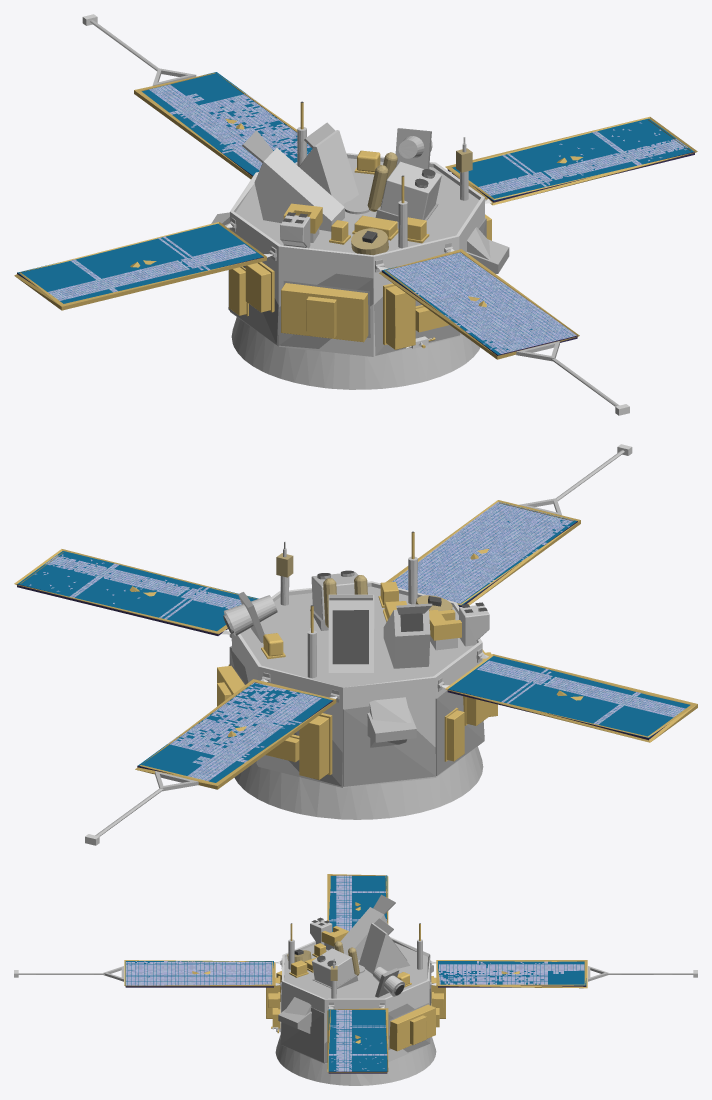
File: ace.glb
3 renders of one model, top to bottom at view 1: azimuth 30°, elevation 25°; view 2: azimuth 150°, elevation 25°; view 3: azimuth 270°, elevation 25°, orthographic. The views are drawn at different scales.
Visible parts, largest first — view 1: Layer_0; view 2: Layer_0; view 3: Layer_0.
Boxes of the visible parts, box(x1,y1,x2,y2) form: Layer_0: box(14, 14, 697, 415); Layer_0: box(14, 444, 697, 845); Layer_0: box(14, 874, 697, 1085).
Bounding box in the file's own units: 922 × 278 × 1345.
